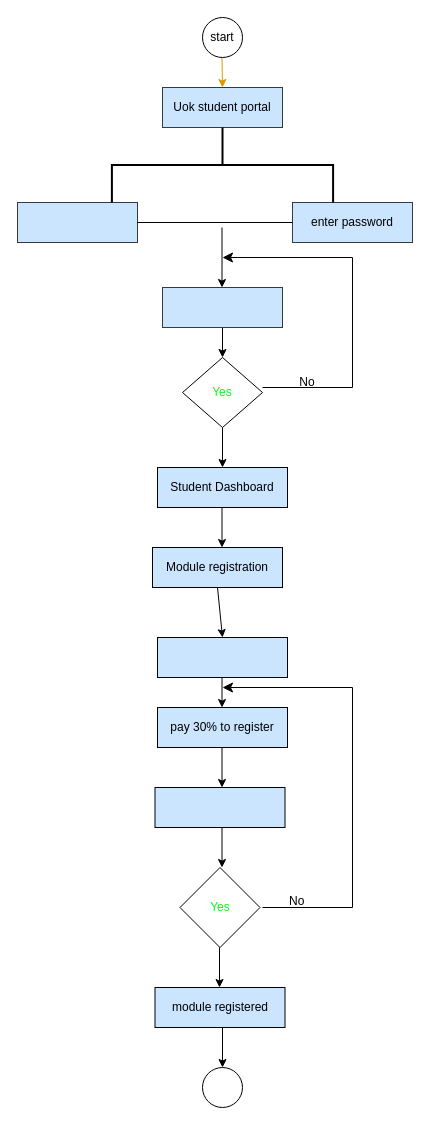
This 430x1125 diagram has some shape labels left out. Here are the shapes that lost their labels. From the top down, the centre of each, then its label:
At [77,222]: "enter username".
At [222,307]: "Login".
At [222,657]: "select module".
At [219,807]: "paid".
At [222,1087]: "end".
